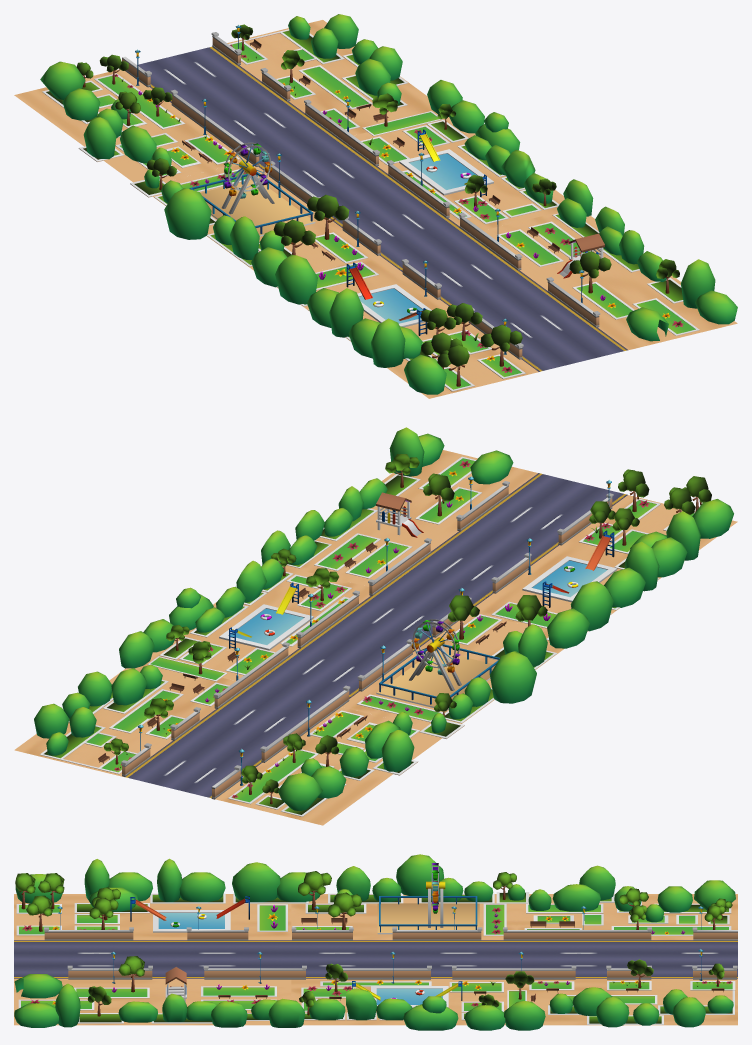
File: Park Final.fbx
The picture shows the model from 3 angles, top to bottom: view 1: azimuth 30°, elevation 25°; view 2: azimuth 150°, elevation 25°; view 3: azimuth 270°, elevation 25°; orthographic projection. The views are drawn at different scales.
Parts seen in each view (by area): view 1: Park, road; view 2: Park, road; view 3: Park, road.
Part boxes in pixels (x1,y1,x2,y2): Park: (14, 14, 737, 398); road: (138, 46, 627, 371); Park: (14, 427, 737, 825); road: (124, 473, 627, 798); Park: (14, 854, 737, 1030); road: (14, 940, 737, 978).
Bounding box in the file's own units: 1167 × 211 × 2407.
